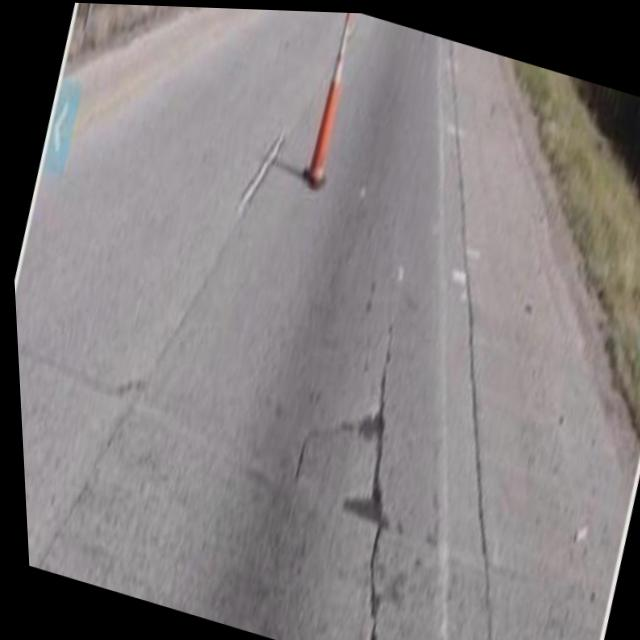Crack: (276, 292, 459, 640)
